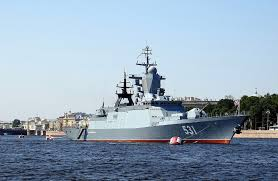tau_muctieu: (65, 70, 244, 146)
